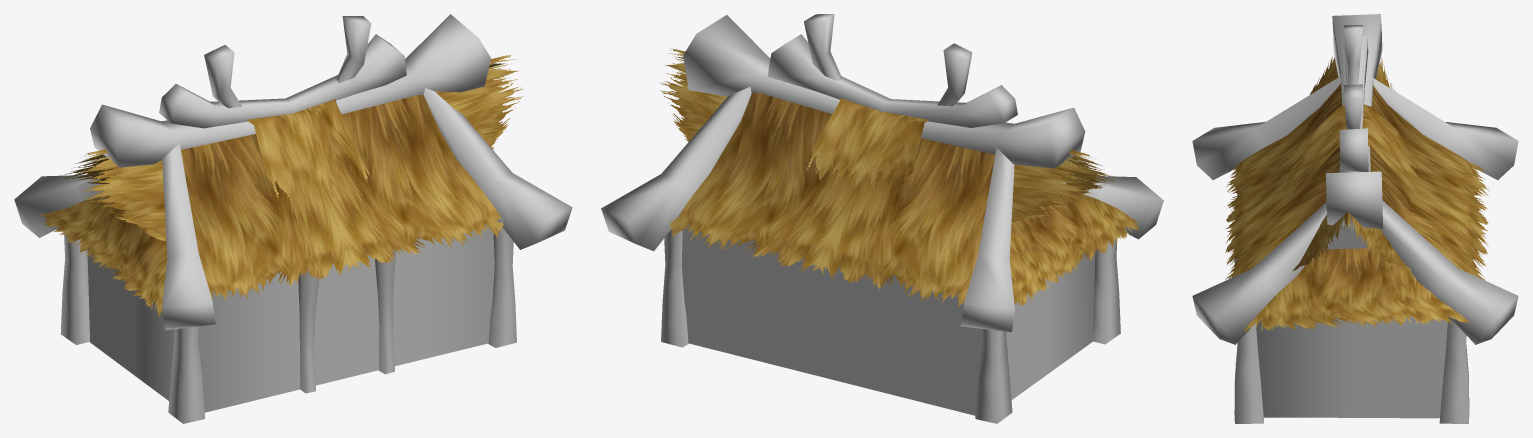
File: environment_Building_cunzhuang_002_a.FBX
3 renders of one model, left to right at view 1: azimuth 30°, elevation 25°; view 2: azimuth 150°, elevation 25°; view 3: azimuth 270°, elevation 25°, orthographic. The views are drawn at different scales.
Parts seen in each view (by area): view 1: environment_Building_cunzhuang_002_a, environment_Building_cunzhuang_002_e, environment_Building_cunzhuang_002_c, environment_Building_cunzhuang_002_d; view 2: environment_Building_cunzhuang_002_a, environment_Building_cunzhuang_002_e, environment_Building_cunzhuang_002_b, environment_Building_cunzhuang_002_c; view 3: environment_Building_cunzhuang_002_a, environment_Building_cunzhuang_002_e, environment_Building_cunzhuang_002_c.
Part boxes in pixels (left/top/right/bottom): environment_Building_cunzhuang_002_a: left=38, top=55, right=523, bottom=316; environment_Building_cunzhuang_002_e: left=14, top=14, right=572, bottom=423; environment_Building_cunzhuang_002_c: left=87, top=223, right=494, bottom=412; environment_Building_cunzhuang_002_d: left=298, top=249, right=395, bottom=393; environment_Building_cunzhuang_002_a: left=659, top=48, right=1139, bottom=306; environment_Building_cunzhuang_002_e: left=601, top=14, right=1163, bottom=423; environment_Building_cunzhuang_002_b: left=681, top=224, right=981, bottom=415; environment_Building_cunzhuang_002_c: left=1006, top=251, right=1095, bottom=399; environment_Building_cunzhuang_002_a: left=1225, top=56, right=1488, bottom=331; environment_Building_cunzhuang_002_e: left=1192, top=14, right=1518, bottom=423; environment_Building_cunzhuang_002_c: left=1256, top=226, right=1448, bottom=418.
Size of the model in its own units: 726 by 474 by 483.
